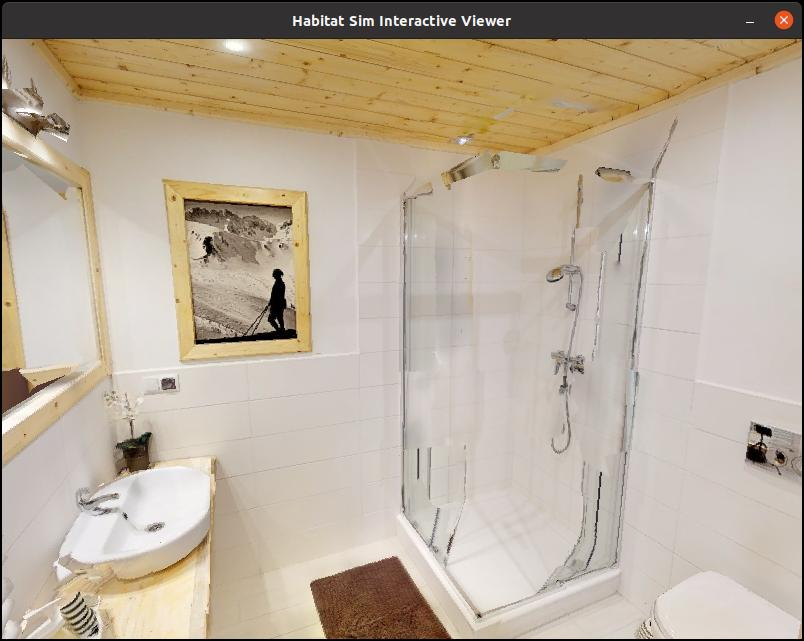shower: (417, 131, 644, 633)
sink: (49, 435, 238, 598)
toilet: (635, 557, 804, 641)
